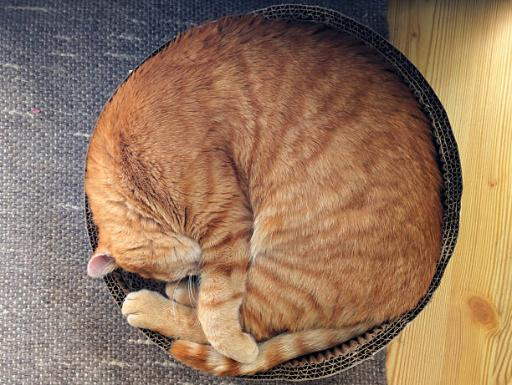cat_sleeping: (84, 15, 442, 376)
